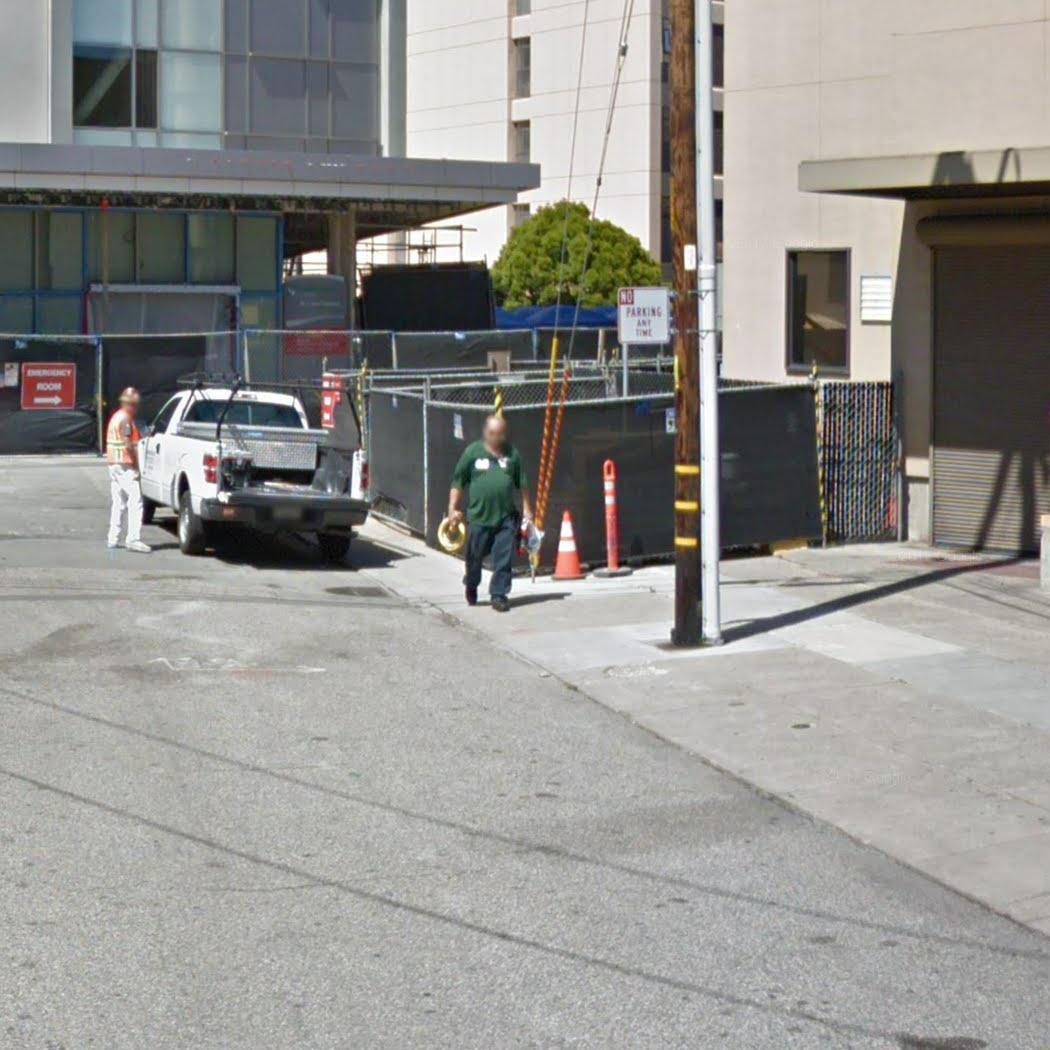No Parking Anytime: (615, 285, 670, 346)
